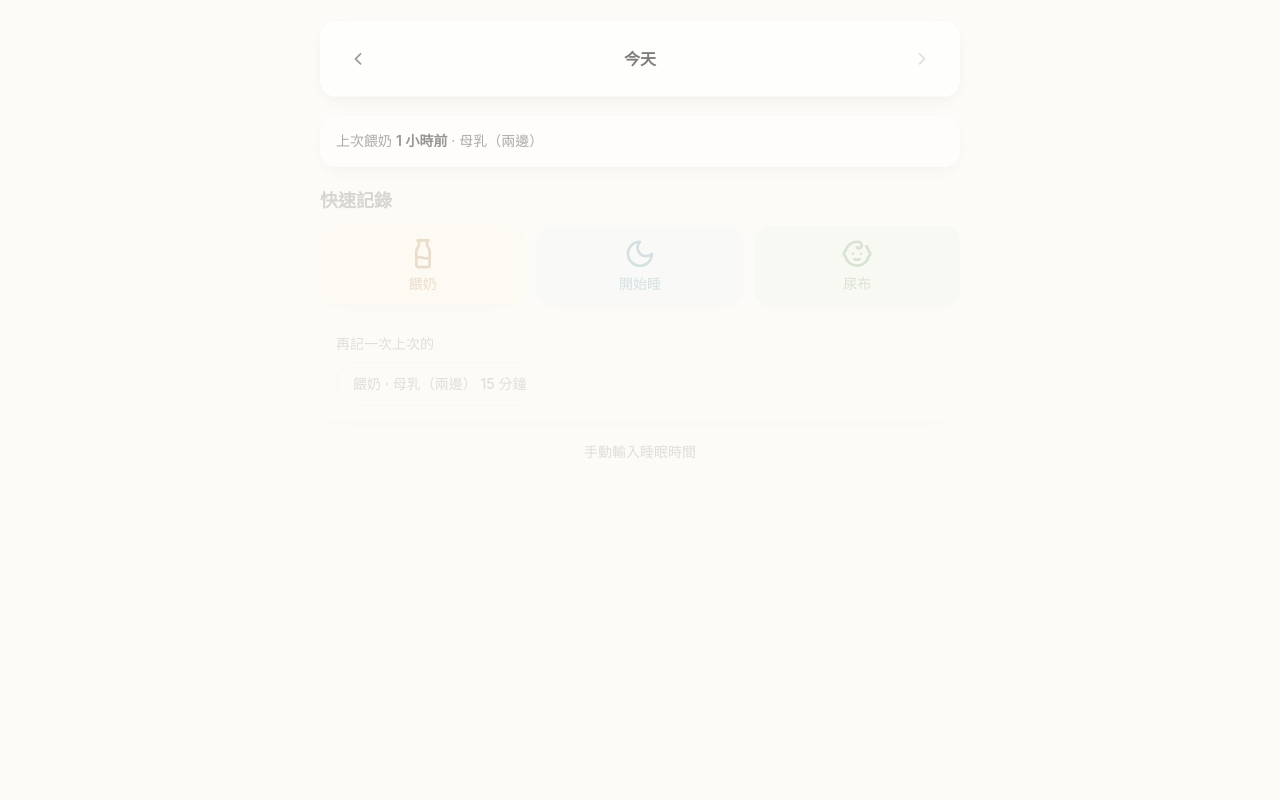
it: 沿用上一筆 › 換一個孩子，帶出的是那個孩子的值
What coordinates should you click on to do the following:
click the button "餵奶"
I would click on:
 (423, 266)
Its box is [320,226,525,306].
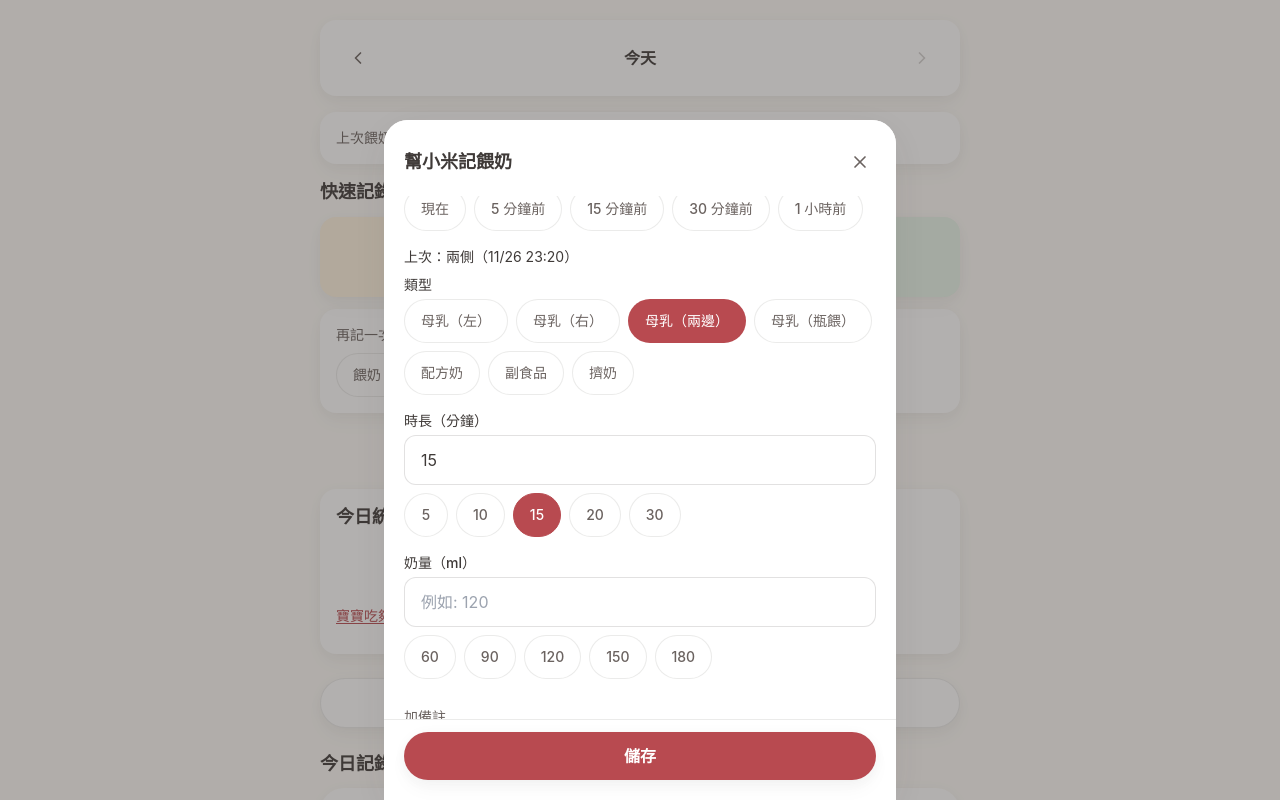
Result: the radio button labelled "母乳（兩邊）" is checked at [628,299,746,343]
Result: the number field labelled "奶量（ml）" is not empty at [404,577,876,627]
Result: the number field labelled "時長（分鐘）" holds "15" at [404,435,876,485]
